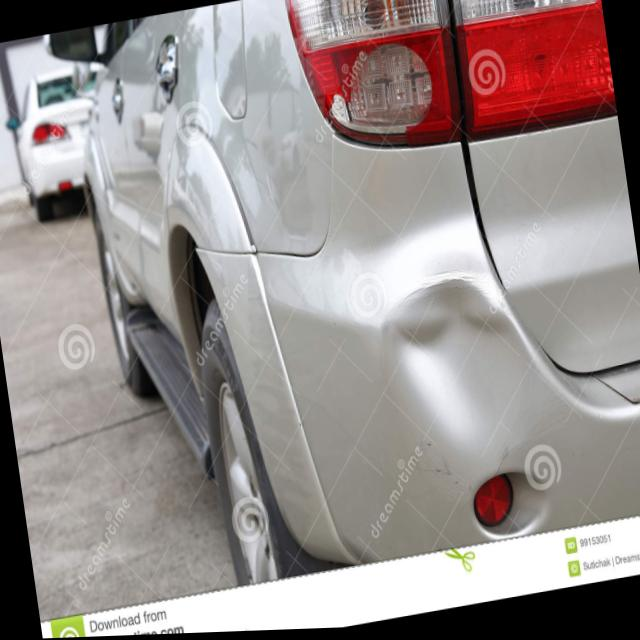Dent: (367, 255, 532, 453)
